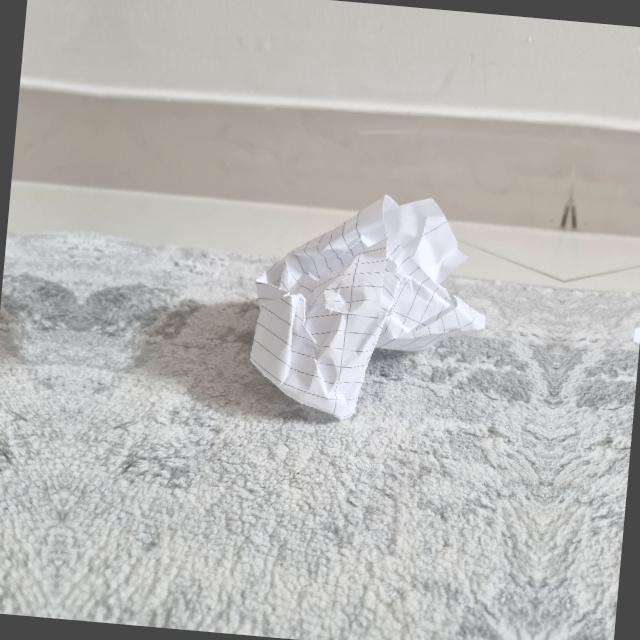paper: (232, 178, 494, 441), (626, 212, 640, 454)
